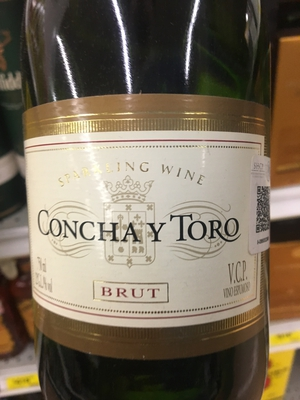brut: (22, 18, 280, 400)
